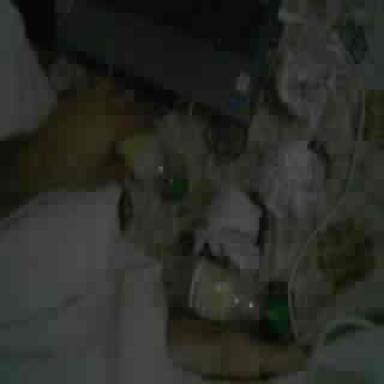paper: (276, 42, 343, 131), (250, 139, 325, 216), (196, 187, 262, 270)
